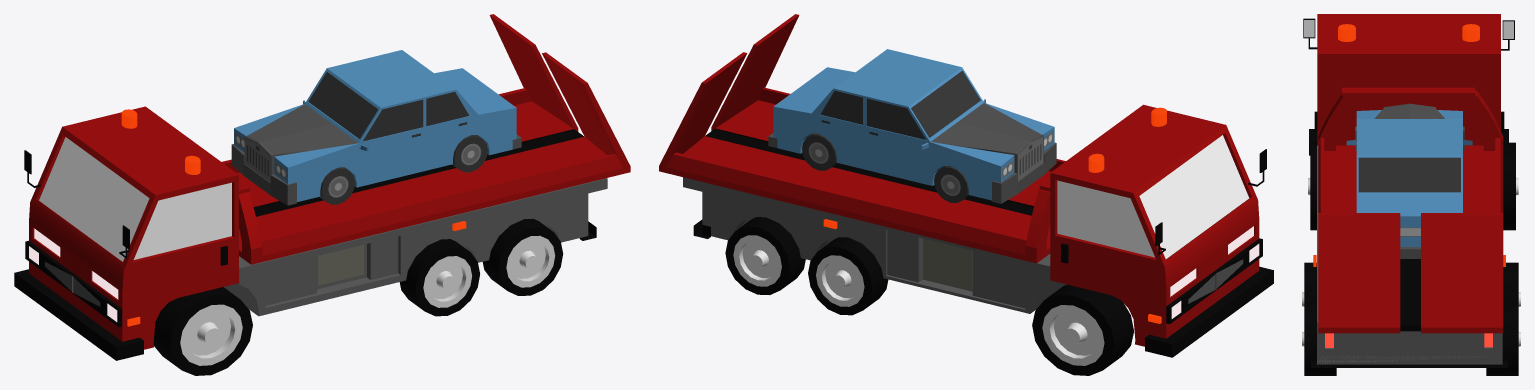
The model's file is tow_1.glb.
The picture shows the model from 3 angles, left to right: view 1: azimuth 30°, elevation 25°; view 2: azimuth 150°, elevation 25°; view 3: azimuth 270°, elevation 25°; orthographic projection.
Parts seen in each view (by area): view 1: 1st tow truck.004, Vehicle_Car_color02.002, 1st tow truck.002, 1st tow tires; view 2: 1st tow truck.004, Vehicle_Car_color02.002, 1st tow truck.002, 1st tow tires; view 3: 1st tow truck.002, 1st tow truck.004, Vehicle_Car_color02.002, 1st tow tires.
Part boxes in pixels (<box>): 1st tow truck.004: <box>14,106,607,360</box>; Vehicle_Car_color02.002: <box>231,50,521,205</box>; 1st tow truck.002: <box>222,14,630,264</box>; 1st tow tires: <box>153,218,563,375</box>; 1st tow truck.004: <box>683,104,1273,357</box>; Vehicle_Car_color02.002: <box>768,49,1056,203</box>; 1st tow truck.002: <box>659,14,1065,263</box>; 1st tow tires: <box>725,217,1133,375</box>; 1st tow truck.002: <box>1318,87,1503,333</box>; 1st tow truck.004: <box>1303,14,1514,367</box>; Vehicle_Car_color02.002: <box>1346,103,1472,258</box>; 1st tow tires: <box>1302,142,1520,375</box>.
Bounding box in the file's own units: 9.1 × 3.4 × 3.38.
Materials: 13 (1 with a texture image).
